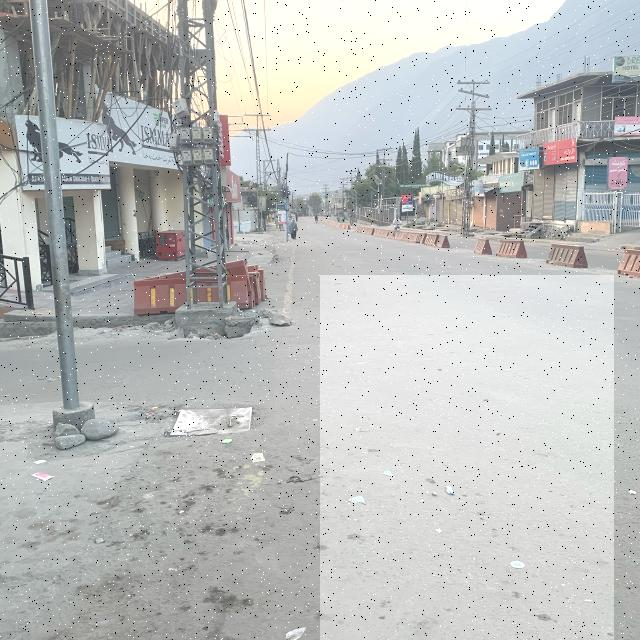left: (0, 328, 275, 432)
straight: (320, 275, 614, 640)
